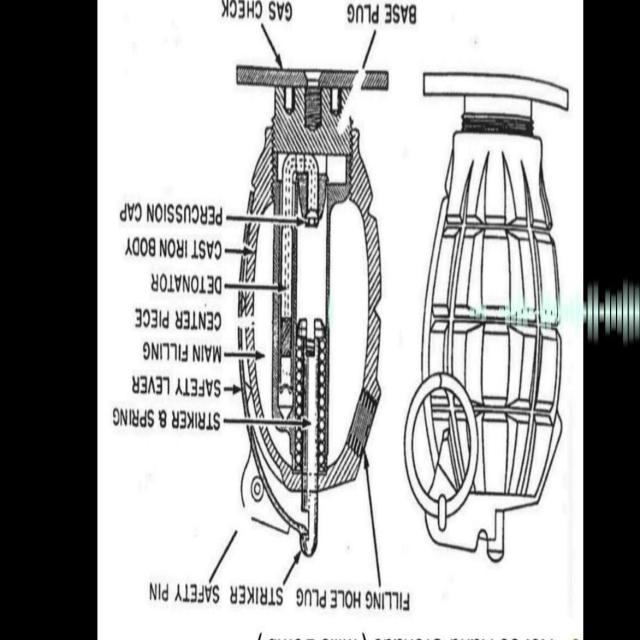grenade: (404, 74, 571, 564)
